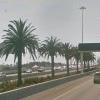Palm tree: (2, 10, 75, 81)
